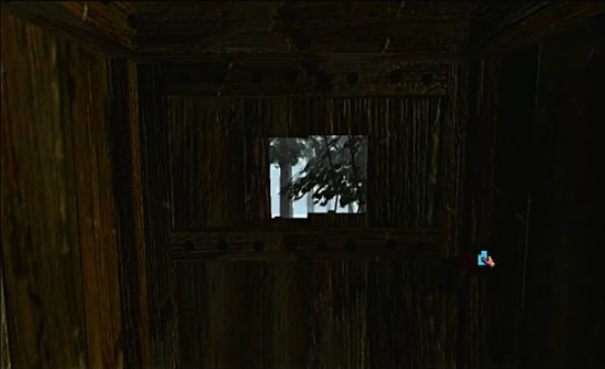Keep: (472, 245, 499, 271)
